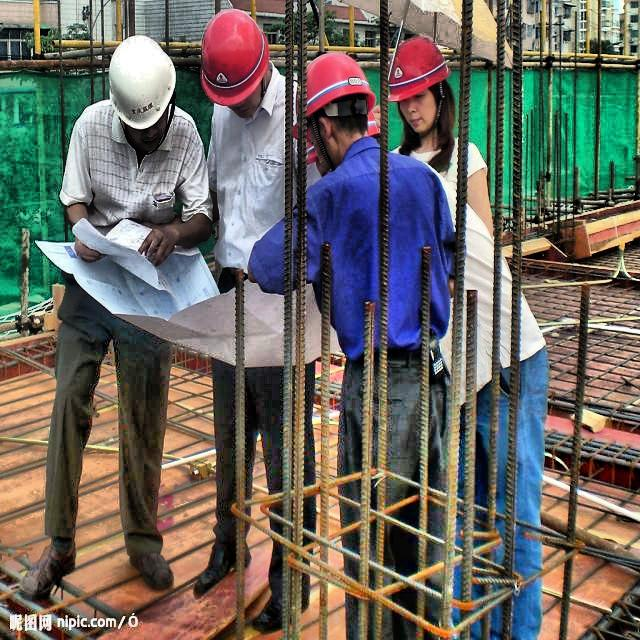person: (54, 30, 195, 612), (180, 8, 292, 624), (296, 43, 396, 614), (378, 34, 523, 240)
